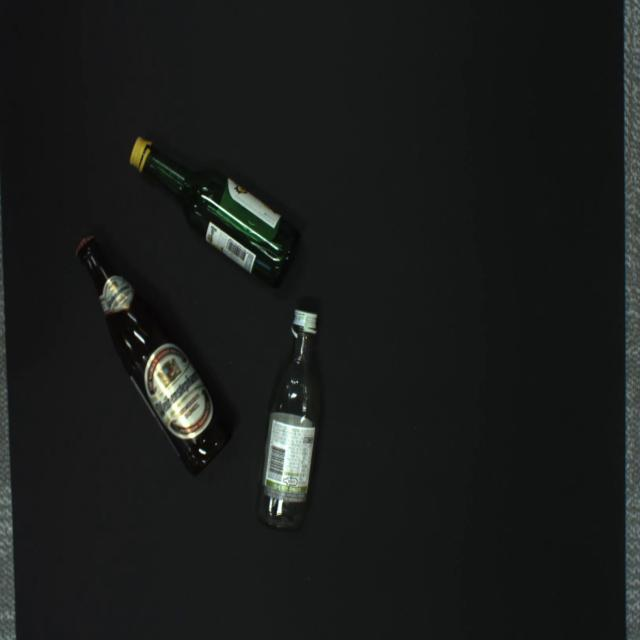beer-bottle: (75, 234, 233, 475)
soju-bottle: (129, 134, 301, 286), (254, 309, 322, 532)
